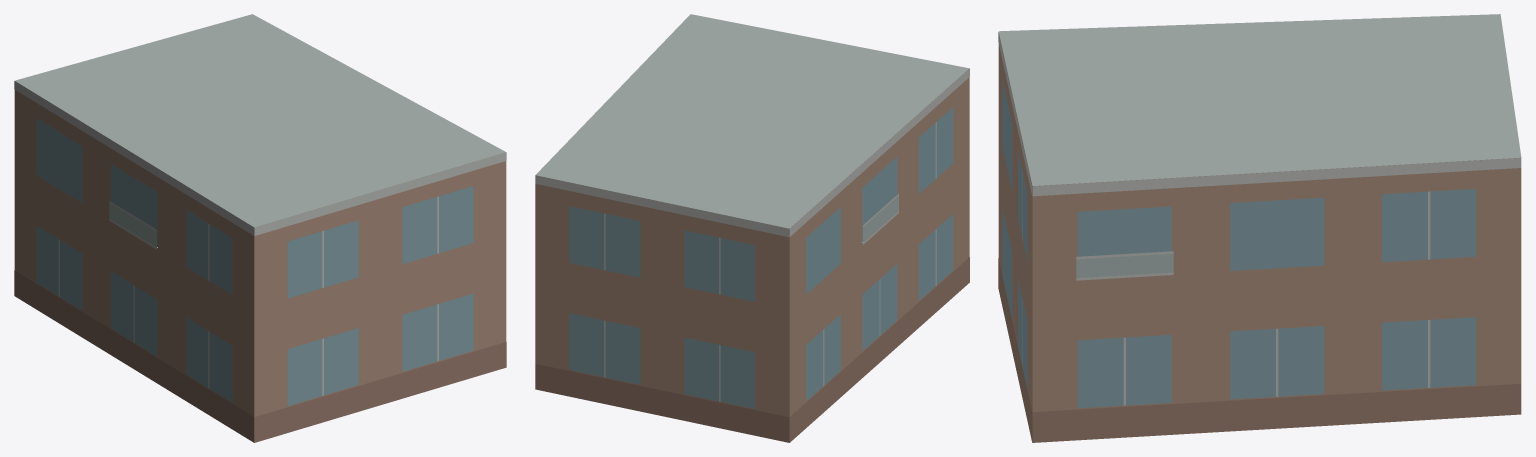
Rendered from survey-upis-32724766.glb.
3 views of the same model, side by side, from view 1: azimuth 30°, elevation 25°; view 2: azimuth 150°, elevation 25°; view 3: azimuth 270°, elevation 25° (orthographic). The views are drawn at different scales.
Visible parts, largest first — view 1: survey-upis-32724766.tmp; view 2: survey-upis-32724766.tmp; view 3: survey-upis-32724766.tmp.
Part boxes in pixels (x1,y1,x2,y2): survey-upis-32724766.tmp: (14, 14, 506, 442); survey-upis-32724766.tmp: (535, 14, 969, 442); survey-upis-32724766.tmp: (998, 14, 1521, 442).
Size of the model in its own units: 8.78 by 6.1 by 11.27.
